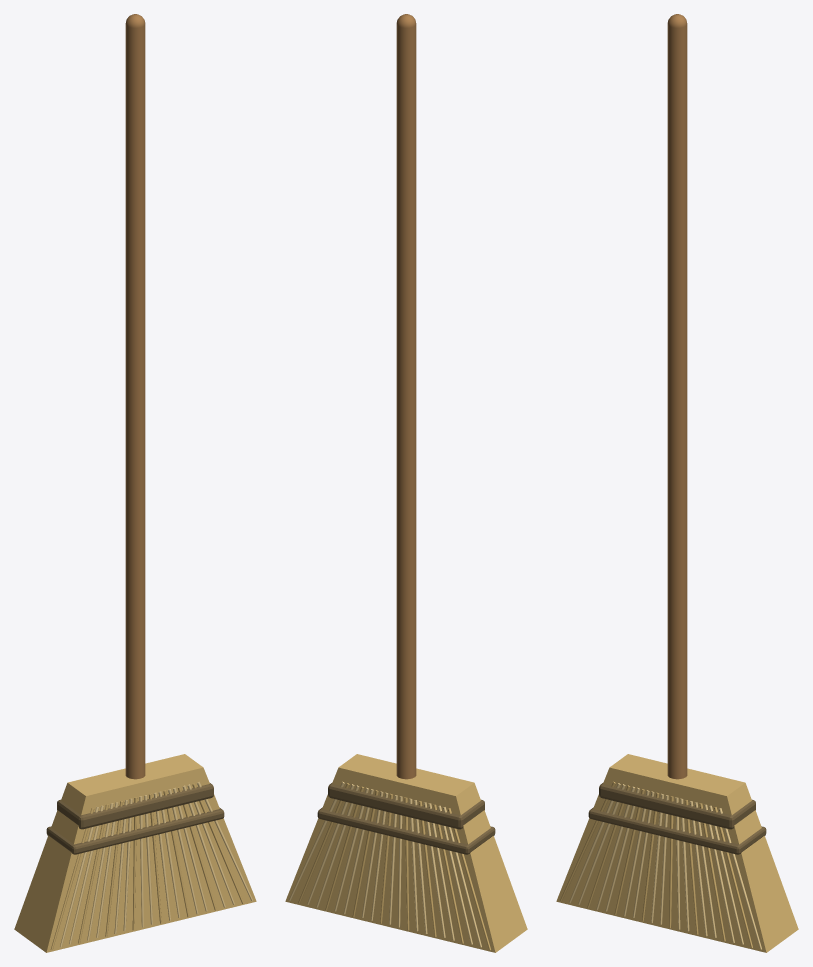
The model's file is broom.glb.
3 views of the same model, side by side, from view 1: azimuth 30°, elevation 25°; view 2: azimuth 150°, elevation 25°; view 3: azimuth 330°, elevation 25° (orthographic).
Parts seen in each view (by area): view 1: Flared broom head, Long broom handle, Upper bristle binding, Lower bristle binding; view 2: Flared broom head, Long broom handle, Upper bristle binding, Lower bristle binding; view 3: Flared broom head, Long broom handle, Upper bristle binding, Lower bristle binding.
Boxes of the visible parts, left/top/right/bottom form: Flared broom head: left=14, top=754, right=256, bottom=952; Long broom handle: left=125, top=25, right=145, bottom=779; Upper bristle binding: left=57, top=783, right=213, bottom=829; Lower bristle binding: left=46, top=807, right=224, bottom=854; Flared broom head: left=285, top=754, right=527, bottom=952; Long broom handle: left=396, top=25, right=416, bottom=779; Upper bristle binding: left=328, top=783, right=484, bottom=829; Lower bristle binding: left=317, top=807, right=495, bottom=854; Flared broom head: left=556, top=754, right=798, bottom=952; Long broom handle: left=667, top=25, right=687, bottom=779; Upper bristle binding: left=599, top=783, right=755, bottom=829; Lower bristle binding: left=588, top=807, right=766, bottom=854.
Size of the model in its own units: 0.34 by 1.39 by 0.095.
